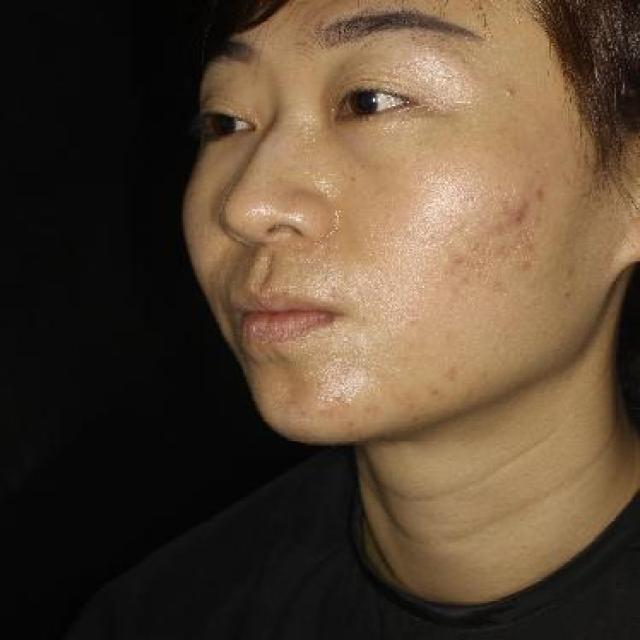blackheads: (458, 55, 478, 71), (501, 86, 522, 97)
dark spot: (426, 383, 454, 402), (448, 250, 471, 268), (438, 363, 462, 379), (534, 184, 553, 202)
papules: (503, 200, 534, 229)
